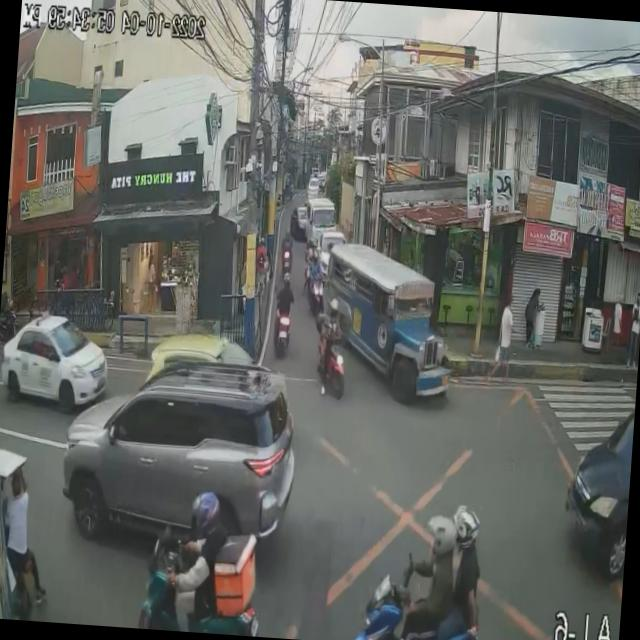full: (188, 491, 222, 544), (453, 506, 482, 551)
half: (426, 515, 458, 556)
